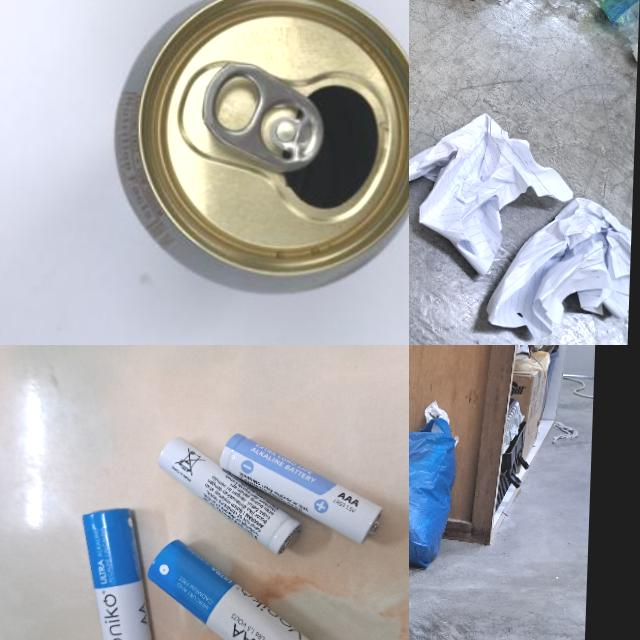aba de lata: (198, 58, 328, 172)
bateria: (215, 431, 388, 545), (154, 432, 306, 556), (144, 534, 321, 640), (75, 504, 164, 640)
garrafa plástica: (541, 0, 640, 63)
lata: (106, 0, 409, 304)
papel: (409, 107, 576, 283), (486, 192, 632, 341)
sacola plástica: (409, 420, 457, 570)
tampa plástica: (629, 35, 638, 63)
